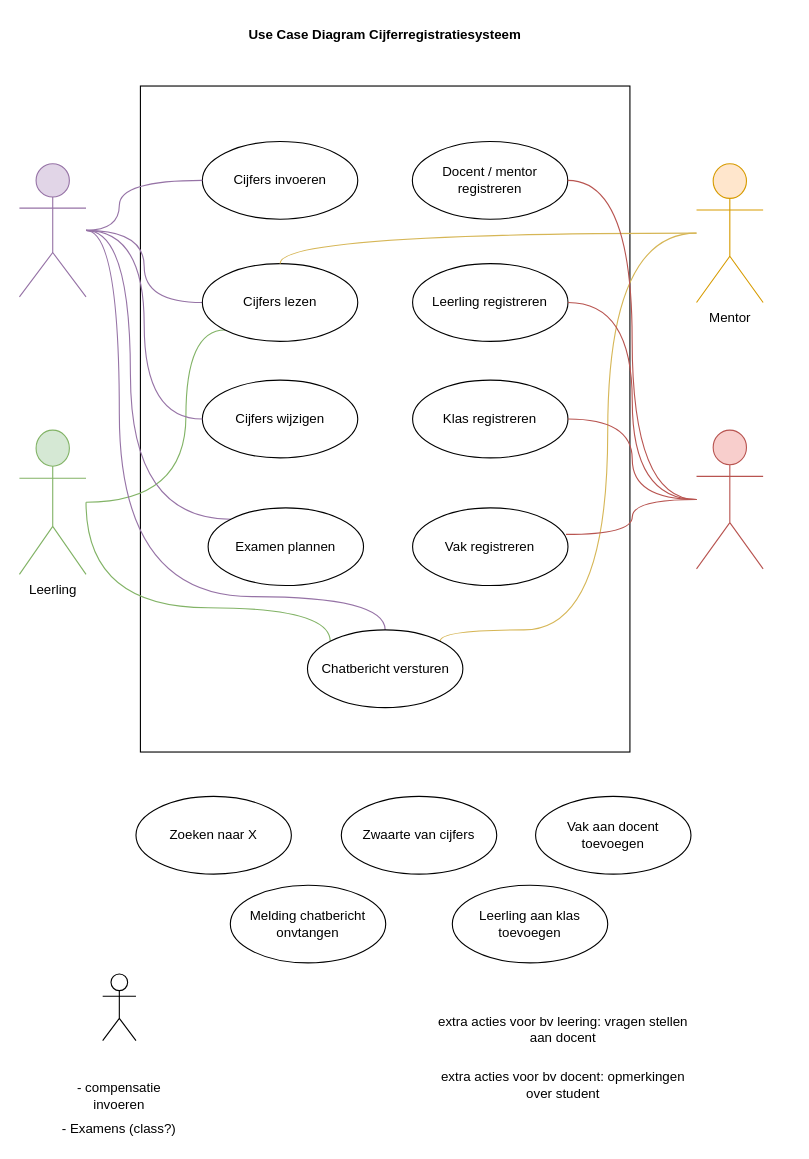
The diagram is 809 pixels wide and 1159 high, and some of its shapes have lost their labels. The shapes that lost their labels are listed below. From the top down, each one's box as (x1, y1, x2, y2) in pixels, then its label:
(18, 163, 86, 297): Docent
(695, 429, 763, 569): Admin / Secretariaat
(102, 973, 136, 1041): secretariaat?
